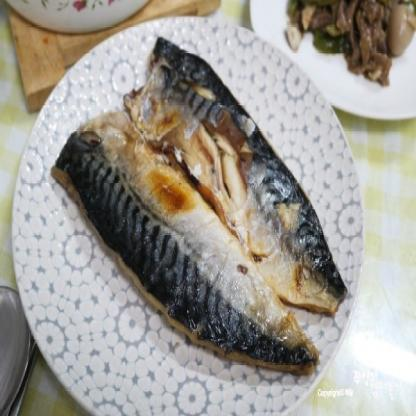Peixe: (47, 29, 353, 384)
